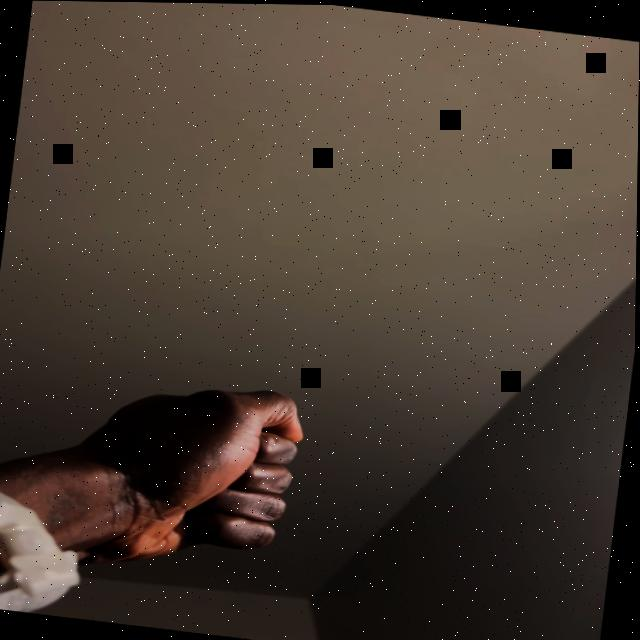Rock: (61, 365, 309, 573)
